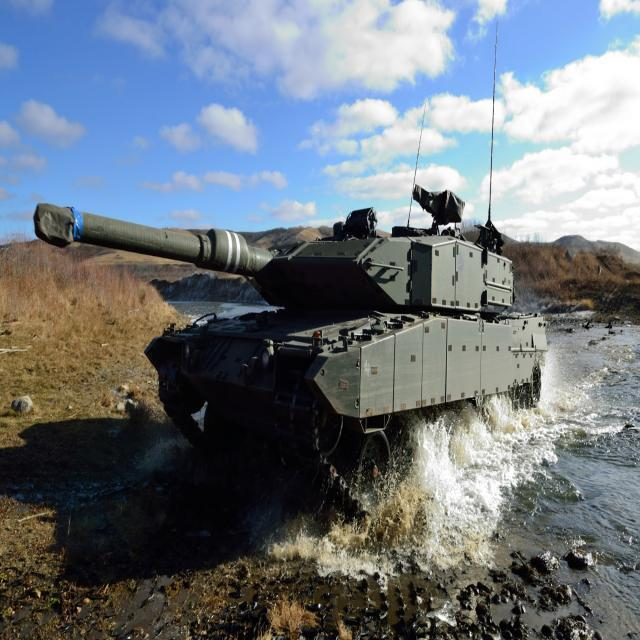Tanks: (25, 172, 551, 525)
